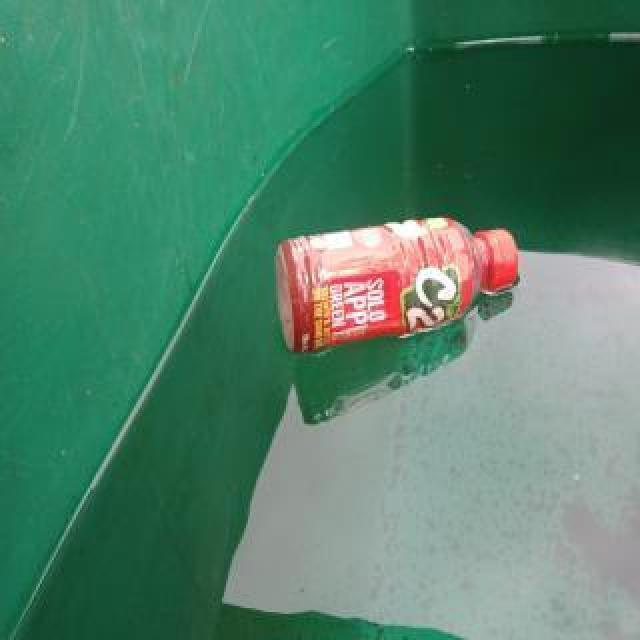bottle: (276, 213, 518, 357)
